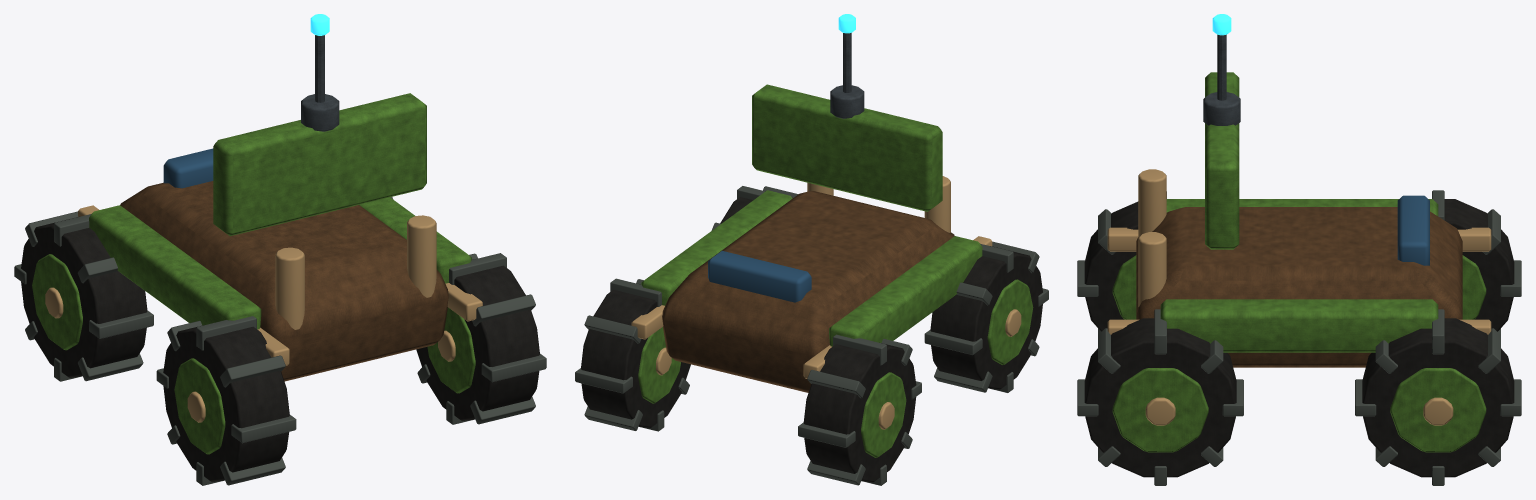
Rendered from vael_mirage.gltf.
The picture shows the model from 3 angles, left to right: view 1: azimuth 30°, elevation 25°; view 2: azimuth 150°, elevation 25°; view 3: azimuth 270°, elevation 25°; orthographic projection. The views are drawn at different scales.
Visible parts, largest first — view 1: Root.029_Geometry, TurretYaw.012_Geometry, Wheel_-0.6554999999999999_-0.008_Geometry, Wheel_-0.6554999999999999_0.008_Geometry, Wheel_0.6554999999999999_-0.008_Geometry; view 2: Root.029_Geometry, TurretYaw.012_Geometry, Wheel_-0.6554999999999999_0.008_Geometry, Wheel_-0.6554999999999999_-0.008_Geometry, Wheel_0.6554999999999999_0.008_Geometry, Wheel_0.6554999999999999_-0.008_Geometry; view 3: Root.029_Geometry, Wheel_0.6554999999999999_0.008_Geometry, Wheel_0.6554999999999999_-0.008_Geometry, TurretYaw.012_Geometry, Wheel_-0.6554999999999999_0.008_Geometry, Wheel_-0.6554999999999999_-0.008_Geometry.
Boxes of the visible parts, x1,y1,x2,y2 form: Root.029_Geometry: (78,148,482,381); TurretYaw.012_Geometry: (213,14,426,236); Wheel_-0.6554999999999999_-0.008_Geometry: (156,316,296,485); Wheel_-0.6554999999999999_0.008_Geometry: (14,211,153,381); Wheel_0.6554999999999999_-0.008_Geometry: (416,253,546,424); Root.029_Geometry: (631,176,992,392); TurretYaw.012_Geometry: (752,14,942,211); Wheel_-0.6554999999999999_0.008_Geometry: (798,334,921,485); Wheel_-0.6554999999999999_-0.008_Geometry: (924,241,1048,392); Wheel_0.6554999999999999_0.008_Geometry: (575,278,690,431); Wheel_0.6554999999999999_-0.008_Geometry: (711,186,798,230); Root.029_Geometry: (1107,169,1491,367); Wheel_0.6554999999999999_0.008_Geometry: (1355,309,1521,485); Wheel_0.6554999999999999_-0.008_Geometry: (1077,309,1243,485); TurretYaw.012_Geometry: (1203,14,1240,249); Wheel_-0.6554999999999999_0.008_Geometry: (1432,190,1521,334); Wheel_-0.6554999999999999_-0.008_Geometry: (1077,191,1166,334).
Bounding box in the file's own units: 1.65 × 2.04 × 2.07.
8 materials, 4 textured.
